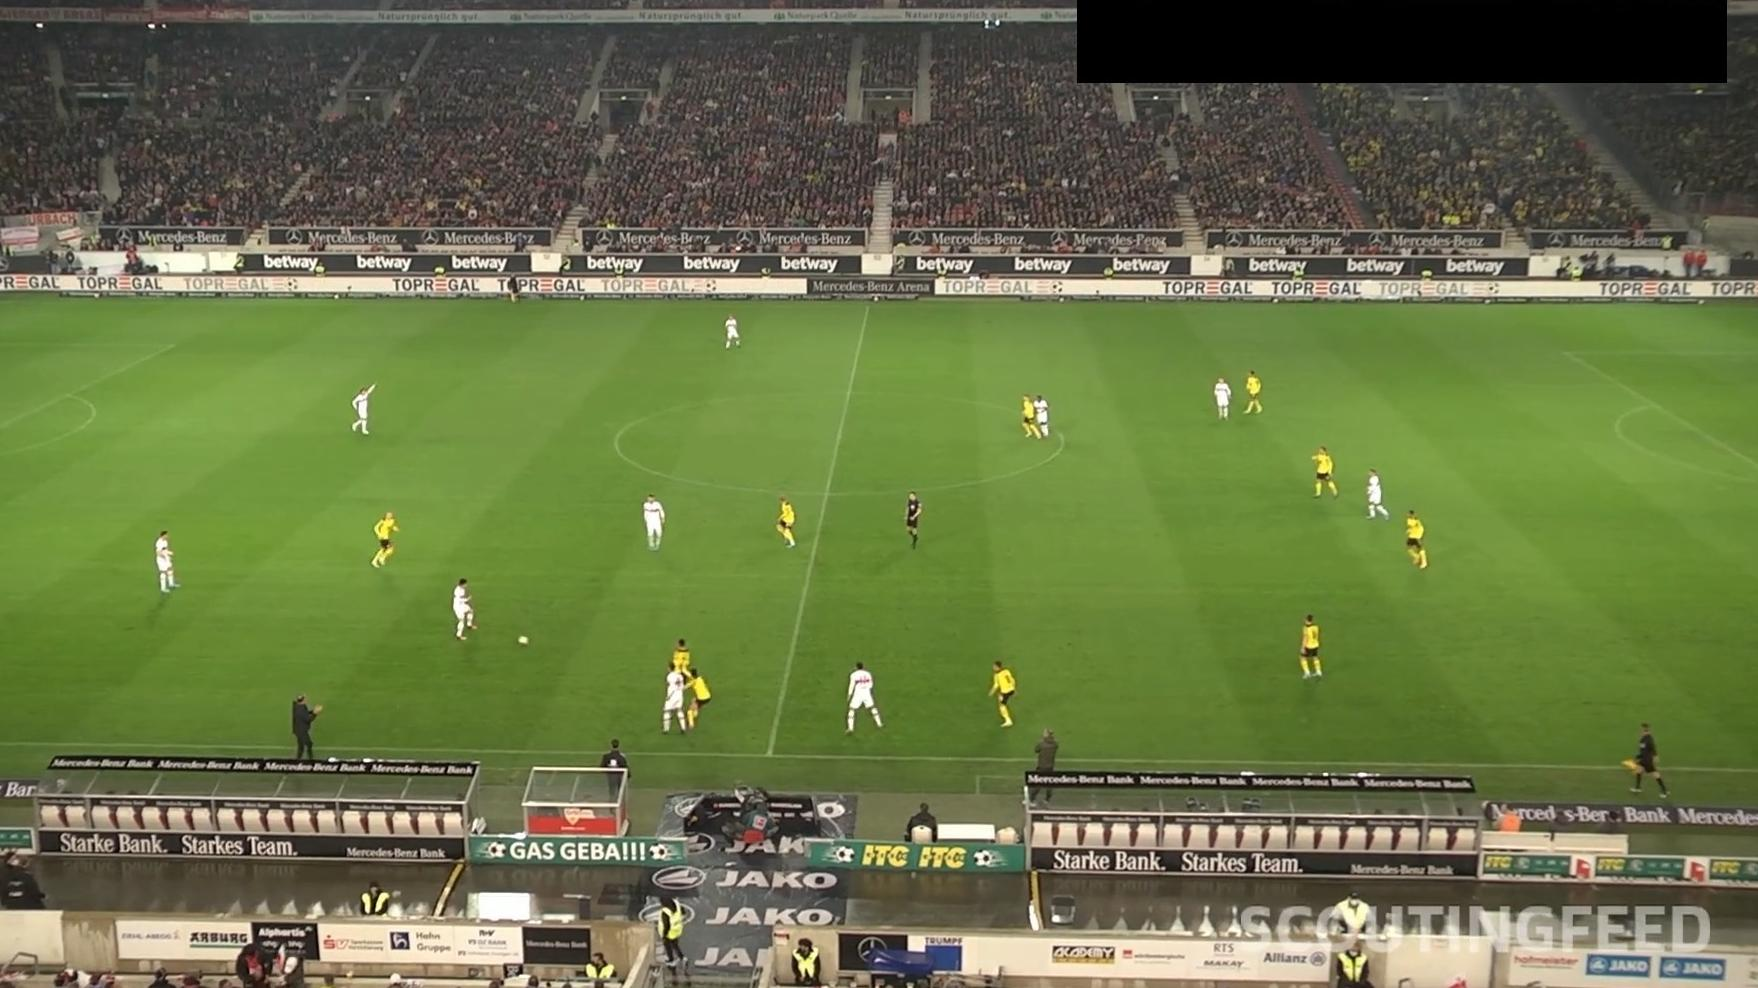ball: (517, 634, 530, 646)
